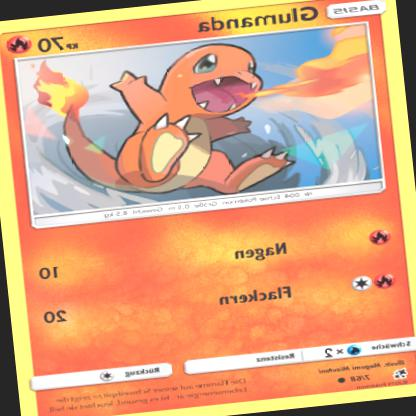Charmander: (54, 36, 296, 210)
